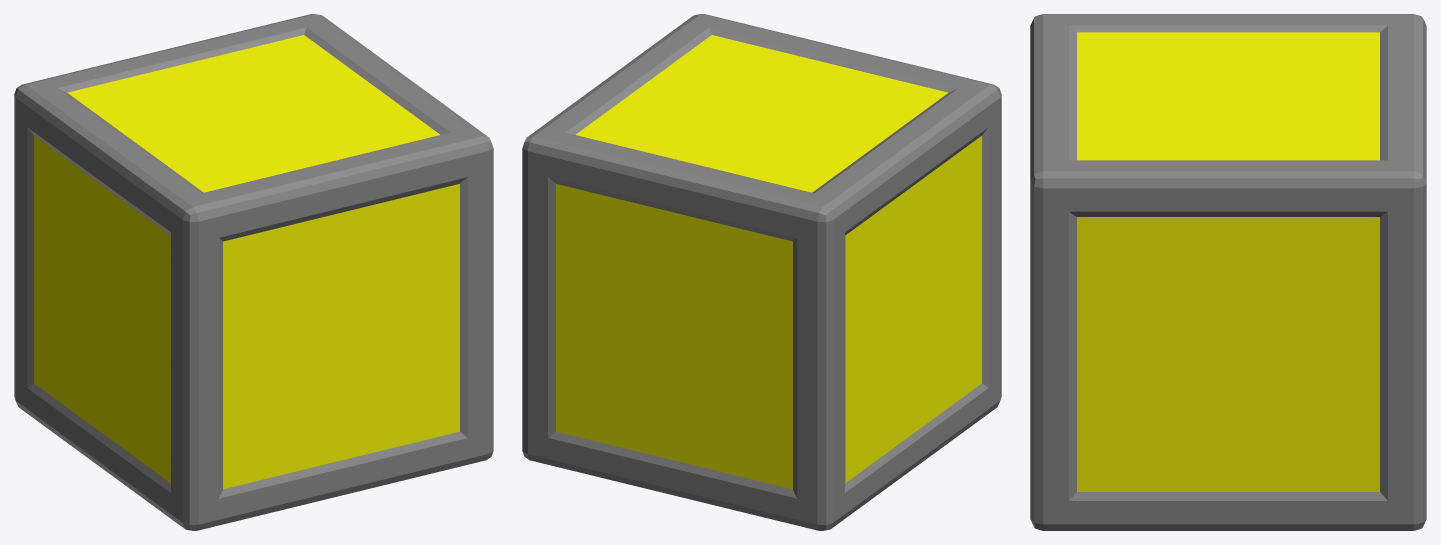
File: WallCube.fbx
3 renders of one model, left to right at view 1: azimuth 30°, elevation 25°; view 2: azimuth 150°, elevation 25°; view 3: azimuth 270°, elevation 25°, orthographic. The views are drawn at different scales.
Visible parts, largest first — view 1: Cube; view 2: Cube; view 3: Cube.
Part boxes in pixels (bbox=[...]): Cube: bbox=[14, 14, 493, 530]; Cube: bbox=[522, 14, 1001, 530]; Cube: bbox=[1030, 14, 1426, 530].
Bounding box in the file's own units: 1 × 1 × 1.
